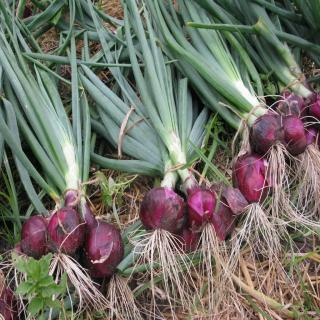Bawang Merah: (2, 2, 320, 319)
